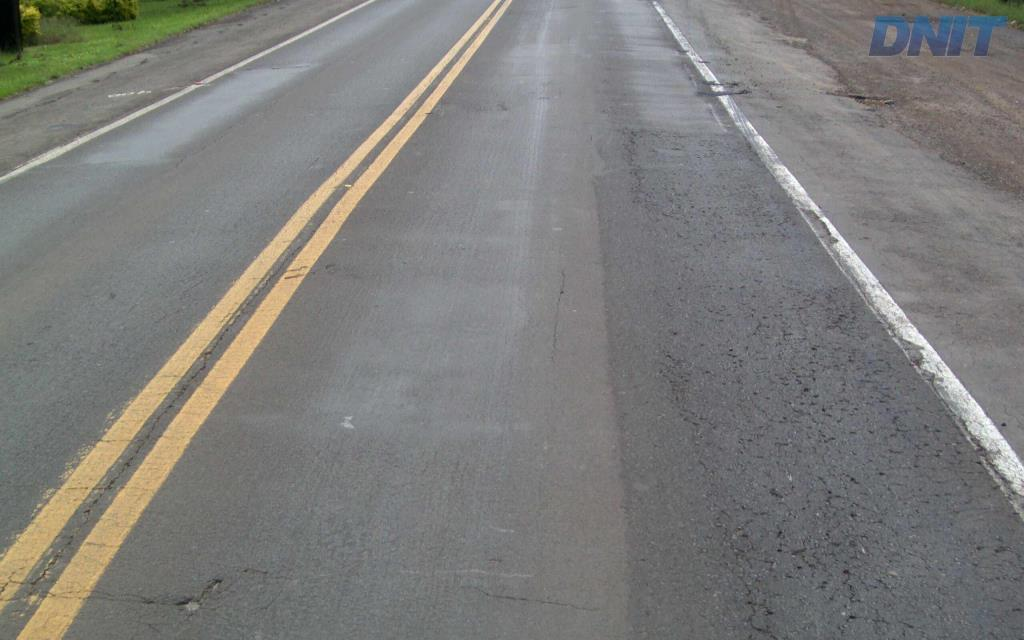crack: (702, 498, 878, 621), (200, 566, 292, 631), (811, 472, 860, 532), (658, 349, 692, 412)
pothole: (167, 590, 200, 615), (200, 569, 224, 596)
